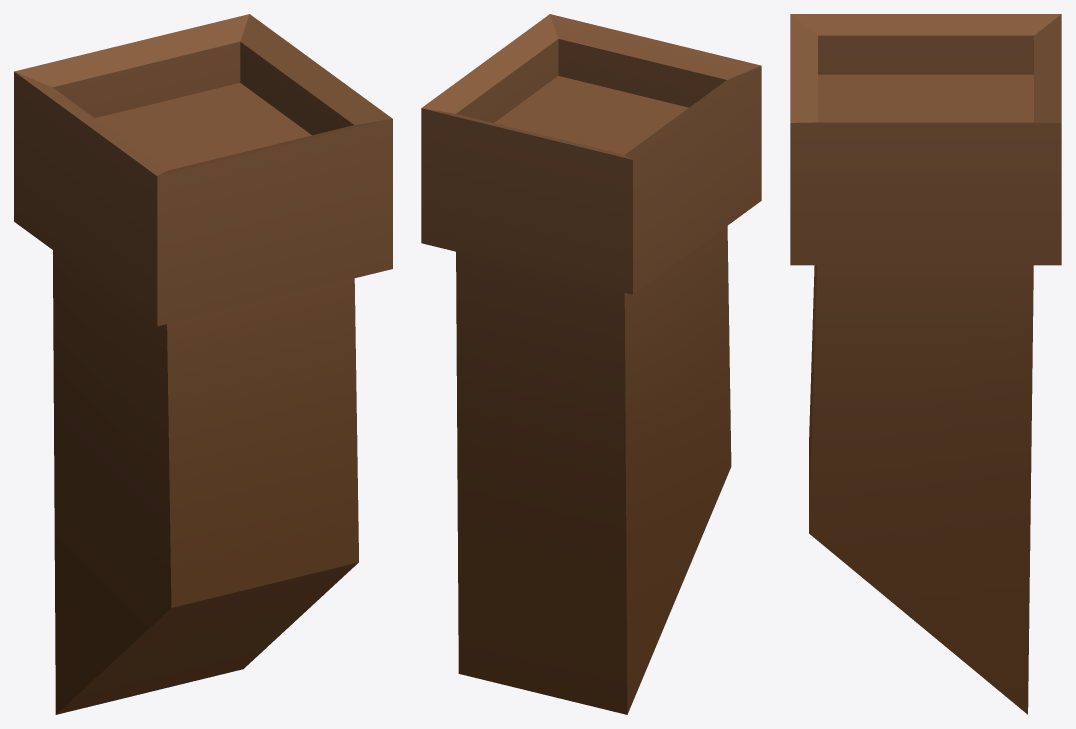
The model's file is House_Chimney.fbx.
3 views of the same model, side by side, from view 1: azimuth 30°, elevation 25°; view 2: azimuth 150°, elevation 25°; view 3: azimuth 270°, elevation 25° (orthographic). The views are drawn at different scales.
Visible parts, largest first — view 1: House_Chimney; view 2: House_Chimney; view 3: House_Chimney.
Part boxes in pixels (x1=…): House_Chimney: x1=14, y1=14, x2=392, y2=714; House_Chimney: x1=421, y1=14, x2=761, y2=714; House_Chimney: x1=790, y1=14, x2=1061, y2=714.
Bounding box in the file's own units: 0.6282 × 1.62 × 0.6612.
Materials: 1 (1 with a texture image).
